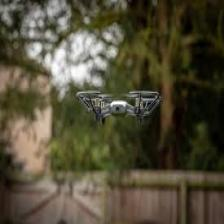drone: (76, 91, 161, 125)
